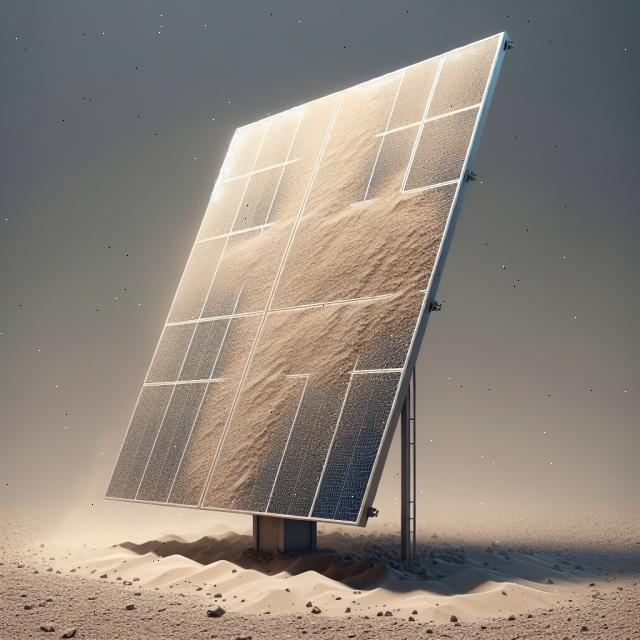Anomaly Solar Panel: (105, 32, 503, 524)
Surface Contaminant: (61, 46, 529, 558)
